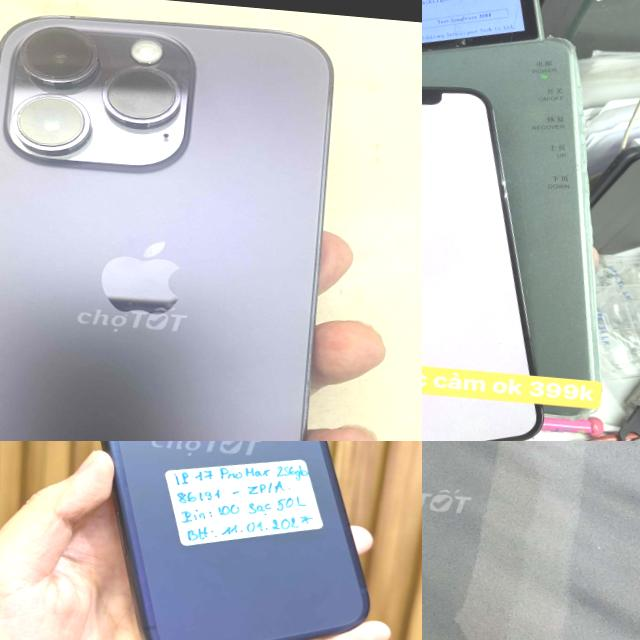gen_11: (422, 73, 574, 441)
gen_14: (0, 1, 352, 441)
gen_17: (29, 441, 407, 640)
